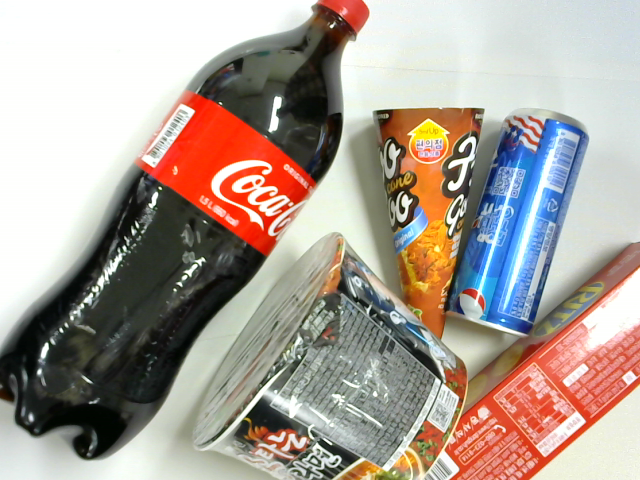Coca_Cola_1.5L: (4, 1, 370, 462)
GooGoo_Cone_CVS: (374, 109, 486, 340)
HeJangsock: (189, 232, 468, 480)
Pepsi_Cola_Can_250ml: (445, 108, 592, 330)
Ritz_Cracker: (421, 242, 640, 480)
